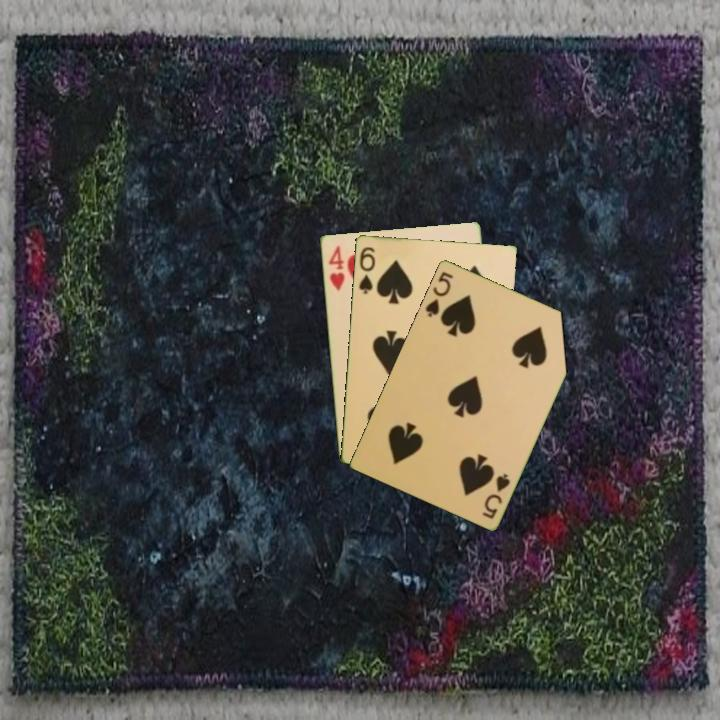4h: (325, 242, 347, 294)
5s: (421, 268, 456, 320), (478, 469, 513, 521)
6s: (355, 243, 378, 296)
